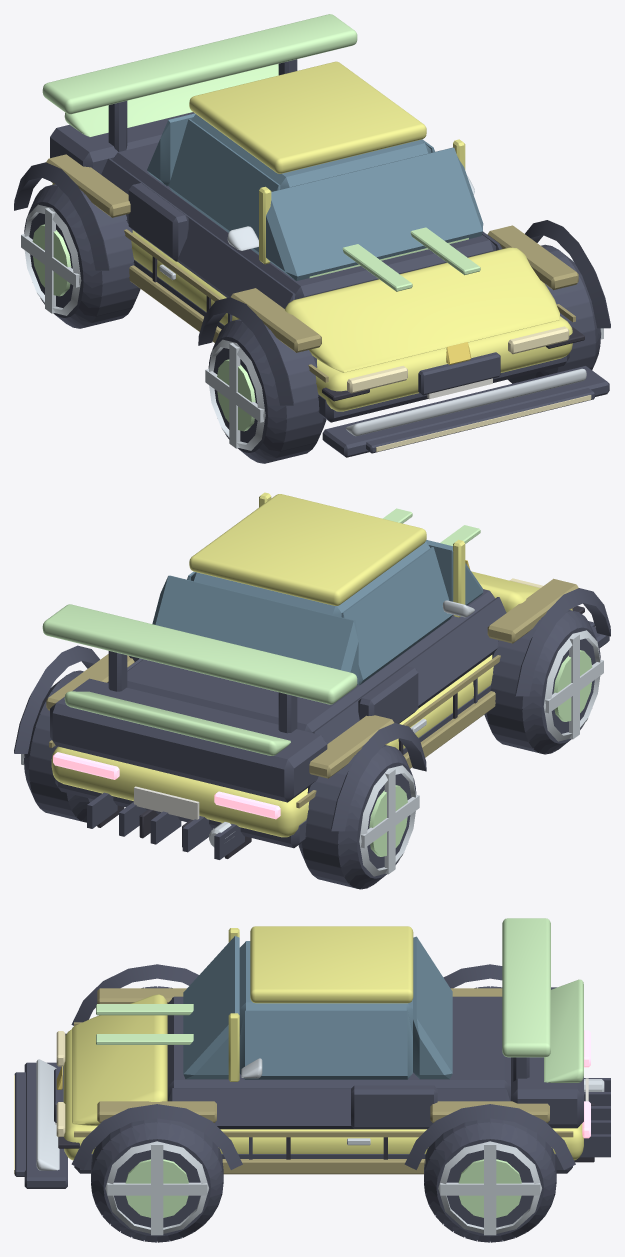
Rendered from downforce_dragon.fbx.
3 renders of one model, top to bottom at view 1: azimuth 30°, elevation 25°; view 2: azimuth 150°, elevation 25°; view 3: azimuth 270°, elevation 25°, orthographic. The views are drawn at different scales.
Parts seen in each view (by area): view 1: Body, Trim, Glass, Accent2, Accent, Wheel_FR, Wheel_RR, Metal, Accent3, Light, Wheel_FL, Light3 (+2 smaller); view 2: Trim, Body, Glass, Accent2, Accent, Wheel_RR, Wheel_FR, Metal, Wheel_RL, Metal2, Light2, Accent4 (+2 smaller); view 3: Trim, Body, Glass, Accent2, Accent, Metal, Wheel_FL, Wheel_RL, Metal2, Accent3, Light3, Light (+2 smaller).
Part boxes in pixels (bbox=[...]): Body: bbox=[52, 61, 572, 411]; Trim: bbox=[14, 59, 610, 457]; Glass: bbox=[147, 113, 483, 280]; Accent2: bbox=[42, 14, 468, 277]; Accent: bbox=[46, 154, 578, 382]; Wheel_FR: bbox=[208, 319, 326, 463]; Wheel_RR: bbox=[24, 184, 140, 328]; Metal: bbox=[21, 204, 603, 450]; Accent3: bbox=[227, 175, 586, 436]; Light: bbox=[347, 326, 591, 451]; Wheel_FL: bbox=[508, 244, 600, 383]; Light3: bbox=[342, 227, 480, 291]; Trim: bbox=[14, 588, 610, 859]; Body: bbox=[51, 492, 572, 837]; Glass: bbox=[152, 540, 483, 684]; Accent2: bbox=[42, 604, 357, 755]; Accent: bbox=[46, 578, 578, 808]; Wheel_RR: bbox=[298, 745, 416, 889]; Wheel_FR: bbox=[484, 610, 600, 754]; Metal: bbox=[21, 630, 603, 876]; Wheel_RL: bbox=[24, 670, 93, 822]; Metal2: bbox=[369, 650, 592, 856]; Light2: bbox=[53, 752, 280, 819]; Accent4: bbox=[134, 786, 199, 819]; Trim: bbox=[14, 964, 610, 1188]; Body: bbox=[63, 926, 583, 1160]; Glass: bbox=[183, 936, 452, 1079]; Accent2: bbox=[502, 918, 583, 1082]; Accent: bbox=[74, 988, 573, 1174]; Metal: bbox=[105, 1079, 604, 1235]; Wheel_FL: bbox=[91, 1118, 223, 1242]; Wheel_RL: bbox=[424, 1118, 556, 1242]; Metal2: bbox=[125, 1159, 521, 1217]; Accent3: bbox=[36, 1058, 262, 1170]; Light3: bbox=[96, 1004, 193, 1044]; Light: bbox=[14, 1031, 65, 1173].
Size of the model in its own units: 3.11 by 2.07 by 5.18.
